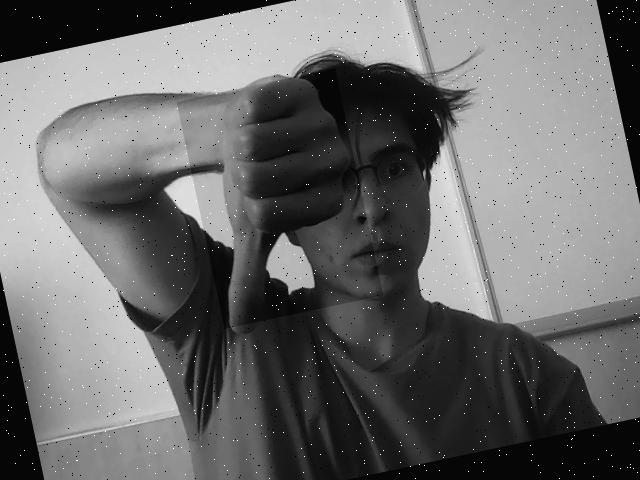bad: (176, 68, 382, 329)
